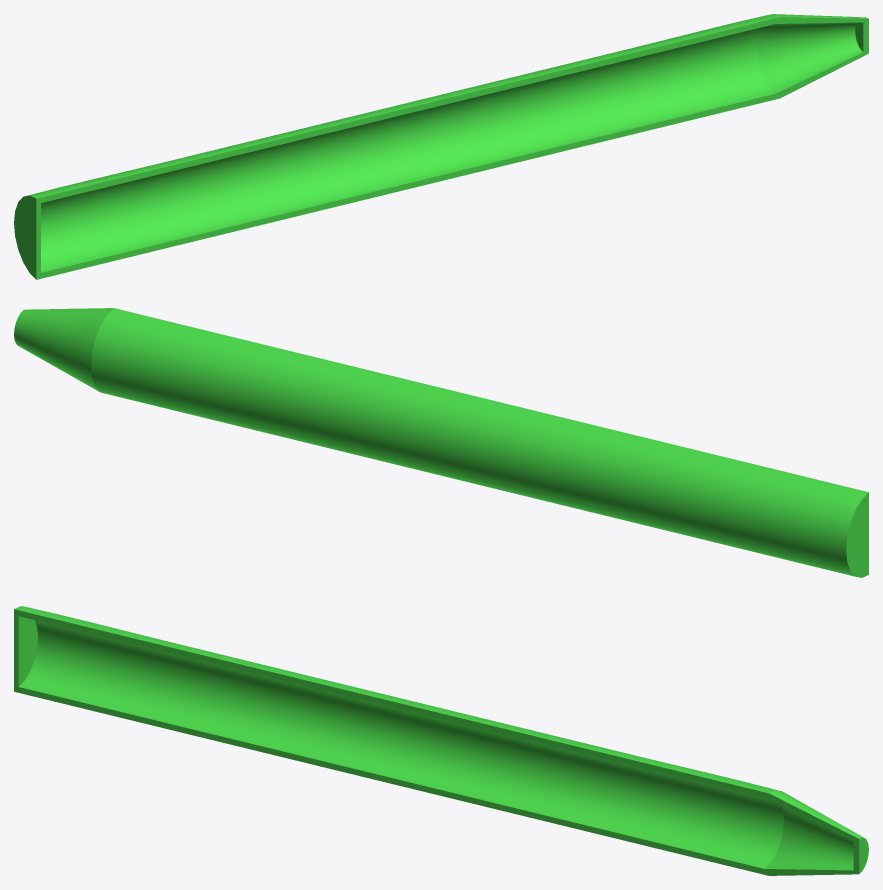
The model's file is pen_slot.obj.
3 views of the same model, one above another, from view 1: azimuth 30°, elevation 25°; view 2: azimuth 150°, elevation 25°; view 3: azimuth 330°, elevation 25° (orthographic).
Bounding box in the file's own units: 150 × 14.01 × 7.
